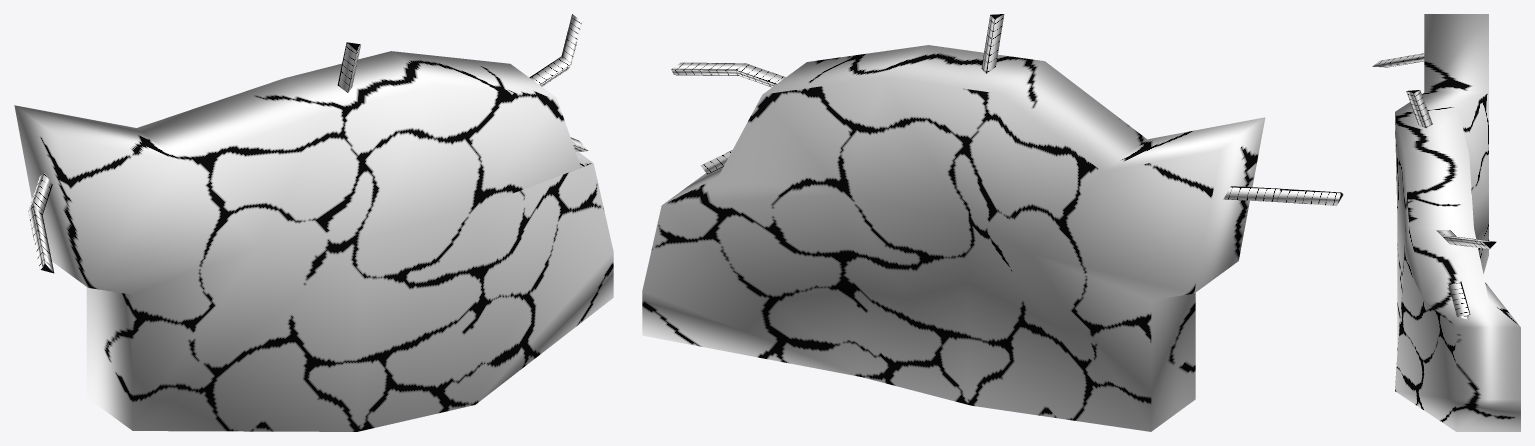
File: Building_02_01.fbx
3 renders of one model, left to right at view 1: azimuth 30°, elevation 25°; view 2: azimuth 150°, elevation 25°; view 3: azimuth 270°, elevation 25°, orthographic. The views are drawn at different scales.
Parts seen in each view (by area): view 1: Building_02_01; view 2: Building_02_01; view 3: Building_02_01.
Part boxes in pixels (x1=…): Building_02_01: x1=14, y1=14, x2=613, y2=431; Building_02_01: x1=642, y1=14, x2=1343, y2=431; Building_02_01: x1=1372, y1=14, x2=1520, y2=431.
Bounding box in the file's own units: 4.29 × 2.47 × 1.27.
